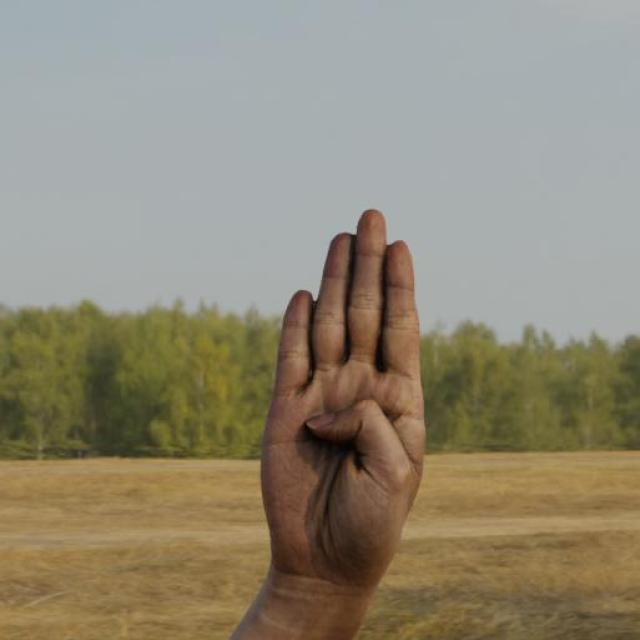B: (262, 202, 443, 588)
